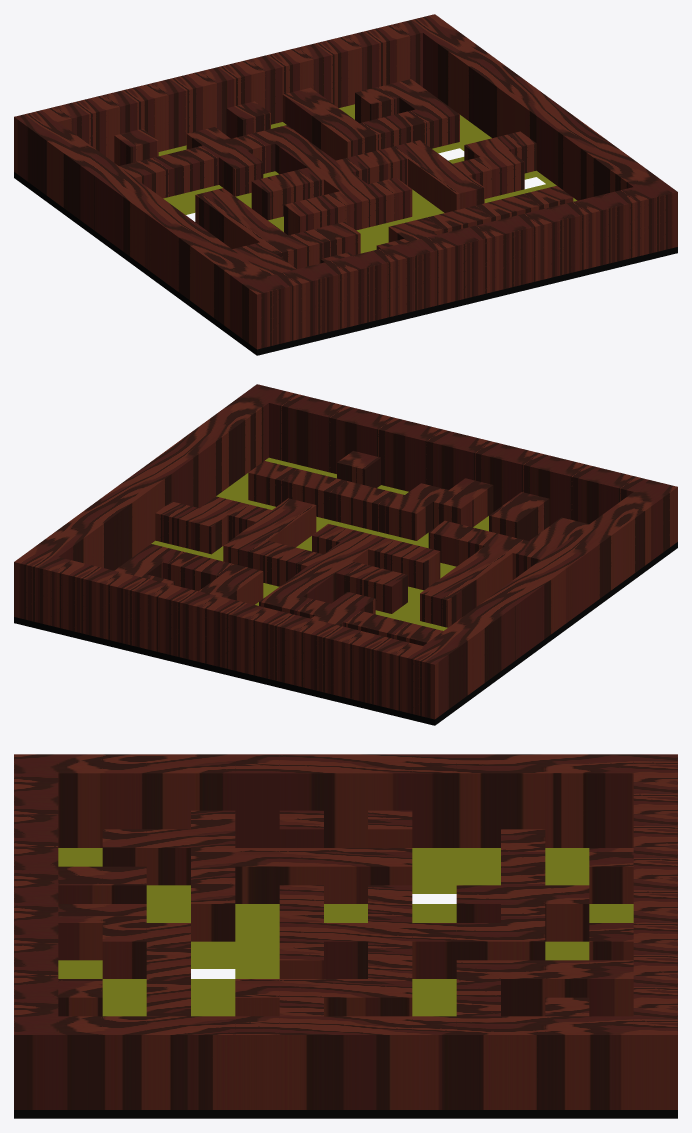
The model's file is laberinto-facil-agujeros.fbx.
The picture shows the model from 3 angles, top to bottom: view 1: azimuth 30°, elevation 25°; view 2: azimuth 150°, elevation 25°; view 3: azimuth 270°, elevation 25°; orthographic projection. The views are drawn at different scales.
Parts seen in each view (by area): view 1: Fac2; view 2: Fac2; view 3: Fac2.
Part boxes in pixels (x1=…): Fac2: x1=14, y1=14, x2=677, y2=355; Fac2: x1=14, y1=384, x2=677, y2=725; Fac2: x1=14, y1=754, x2=677, y2=1118.
Size of the model in its own units: 140 by 19.41 by 140.
